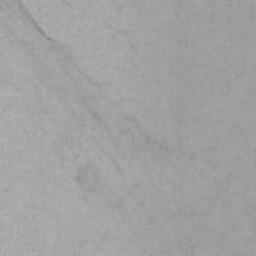Water spot: (0, 0, 234, 227)
